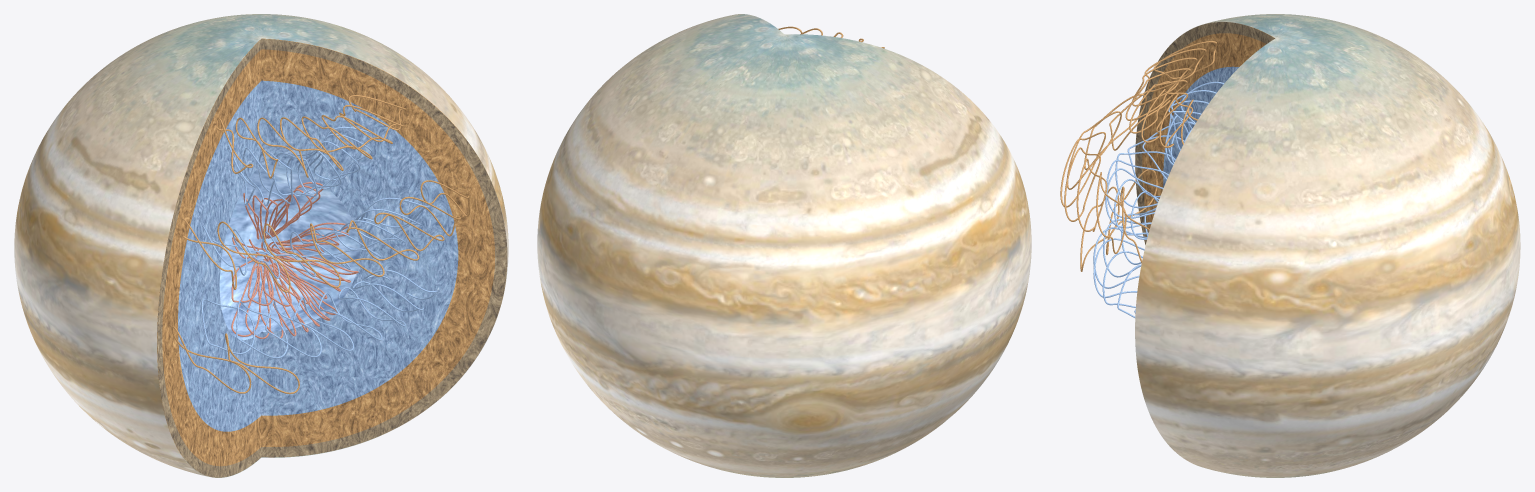
The model's file is jupiter-interior.glb.
3 views of the same model, side by side, from view 1: azimuth 30°, elevation 25°; view 2: azimuth 150°, elevation 25°; view 3: azimuth 270°, elevation 25° (orthographic).
Parts seen in each view (by area): view 1: observed_surface, metallic_cut_right, liquid_cut_right, metallic_cut_left, metallic_outer, liquid_cut_left, atmosphere_cut_right, metallic_ribbons, liquid_ribbons, core_ribbons, atmosphere_cut_left; view 2: observed_surface; view 3: observed_surface, liquid_ribbons, liquid_cut_left, metallic_ribbons, atmosphere_cut_left, metallic_cut_left.
Part boxes in pixels (box(x1,y1,x2,y2)): observed_surface: box(14, 14, 508, 477); metallic_cut_right: box(261, 80, 458, 415); liquid_cut_right: box(261, 49, 495, 446); metallic_cut_left: box(178, 81, 261, 431); metallic_outer: box(219, 164, 359, 339); liquid_cut_left: box(162, 50, 261, 466); atmosphere_cut_right: box(261, 39, 507, 457); metallic_ribbons: box(201, 126, 437, 358); liquid_ribbons: box(171, 95, 470, 394); core_ribbons: box(231, 182, 358, 338); atmosphere_cut_left: box(157, 39, 261, 477); observed_surface: box(537, 14, 1031, 477); observed_surface: box(1135, 14, 1520, 477); liquid_ribbons: box(1060, 41, 1216, 271); liquid_cut_left: box(1142, 33, 1266, 231); metallic_ribbons: box(1093, 81, 1223, 317); atmosphere_cut_left: box(1135, 22, 1274, 244); metallic_cut_left: box(1163, 66, 1238, 187).
Bounding box in the file's own units: 20.02 × 18.72 × 18.8.
Materials: 5 (5 with a texture image).
